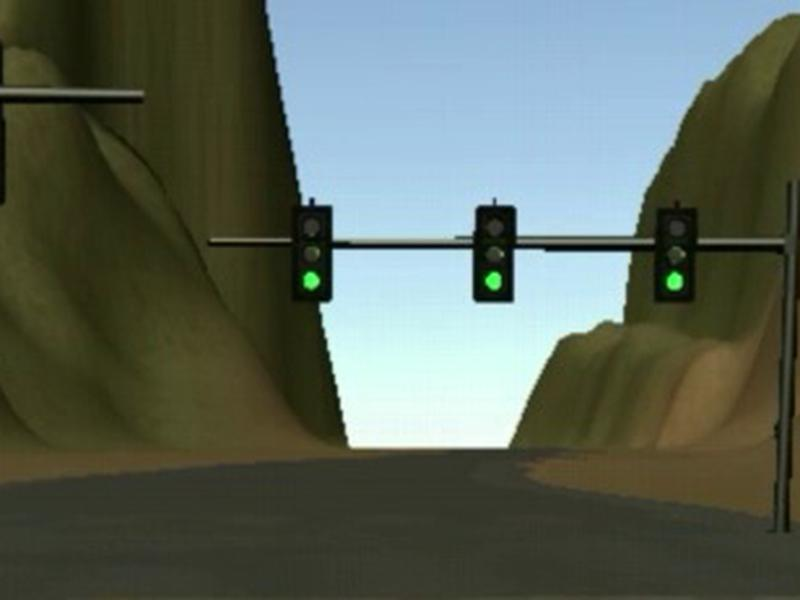Green: (654, 207, 697, 304), (473, 205, 515, 303), (292, 206, 331, 302)
